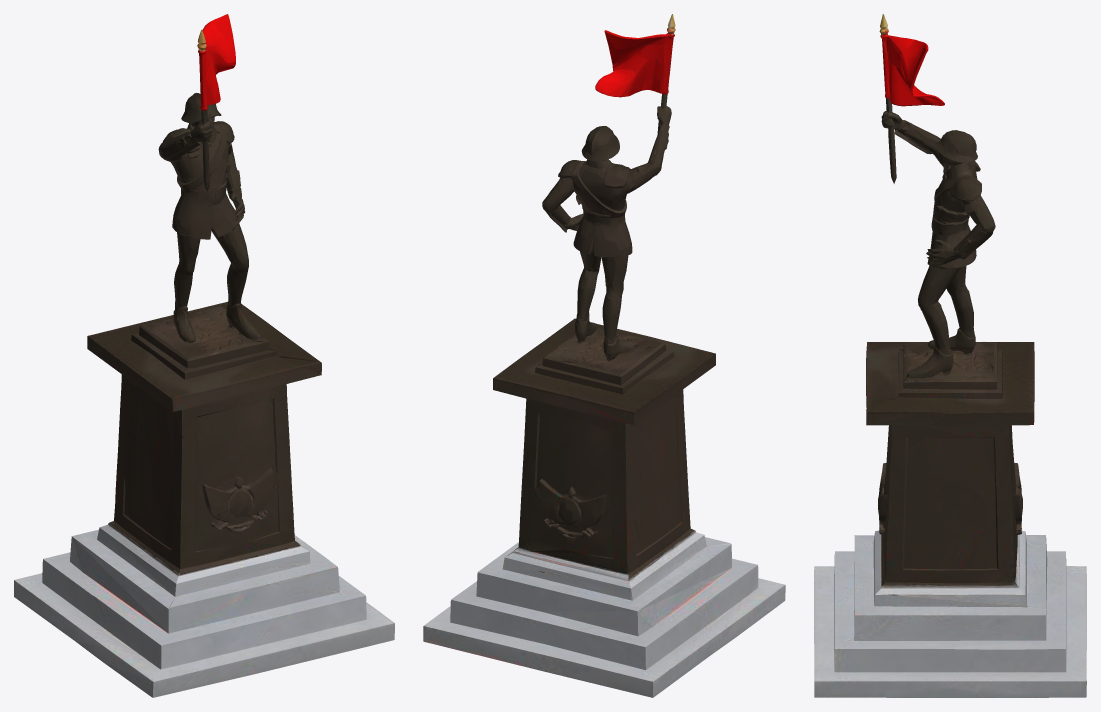
Rendered from lm_monument.glb.
3 renders of one model, left to right at view 1: azimuth 30°, elevation 25°; view 2: azimuth 150°, elevation 25°; view 3: azimuth 270°, elevation 25°, orthographic. The views are drawn at different scales.
Parts seen in each view (by area): view 1: output_unwrapped; view 2: output_unwrapped; view 3: output_unwrapped.
Boxes of the visible parts, x1,y1,x2,y2 form: output_unwrapped: (14, 14, 394, 697); output_unwrapped: (423, 14, 785, 697); output_unwrapped: (814, 14, 1086, 697).
Size of the model in its own units: 0.7712 by 1.9 by 0.7709.
Materials: 1 (1 with a texture image).
